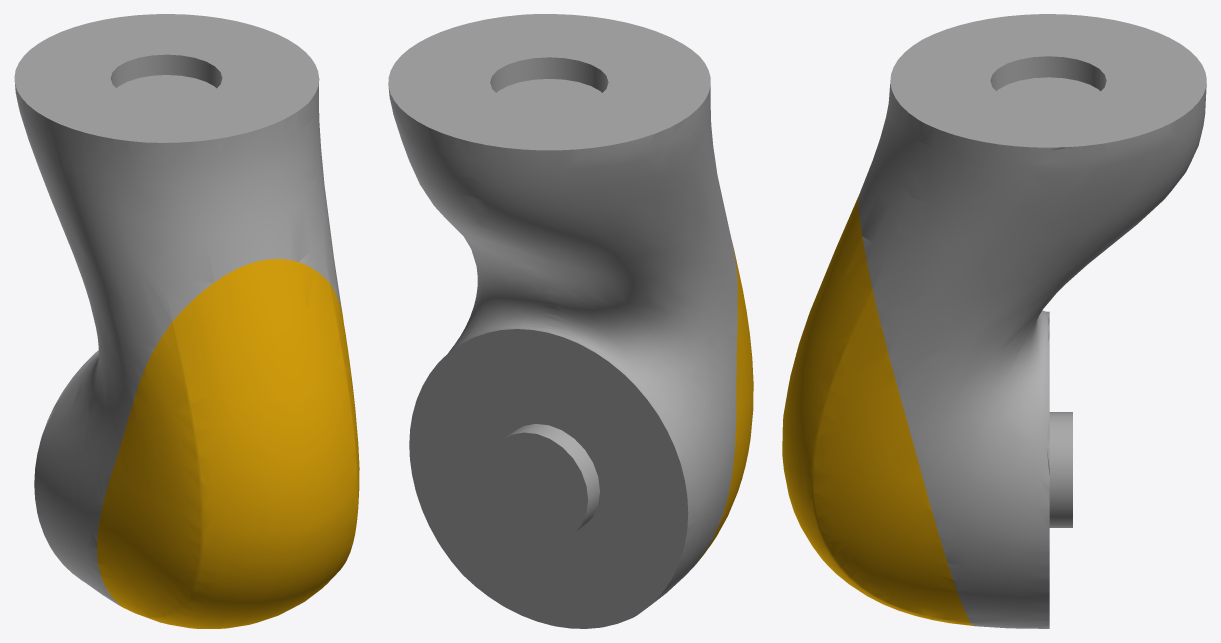
File: iiwa_link_4.glb
3 views of the same model, side by side, from view 1: azimuth 30°, elevation 25°; view 2: azimuth 150°, elevation 25°; view 3: azimuth 270°, elevation 25° (orthographic). The views are drawn at different scales.
Parts seen in each view (by area): view 1: ShapeIndexedFaceSet; view 2: ShapeIndexedFaceSet; view 3: ShapeIndexedFaceSet.
Part boxes in pixels (x1,y1,x2,y2): ShapeIndexedFaceSet: (14,14,359,628); ShapeIndexedFaceSet: (388,14,753,628); ShapeIndexedFaceSet: (782,14,1206,628).
Size of the model in its own units: 0.136 by 0.2525 by 0.1825.
